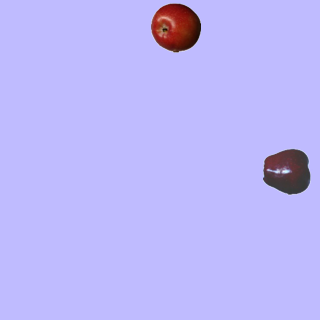Apple Braeburn: (150, 2, 200, 52)
Apple Red Delicious: (262, 146, 312, 196)
